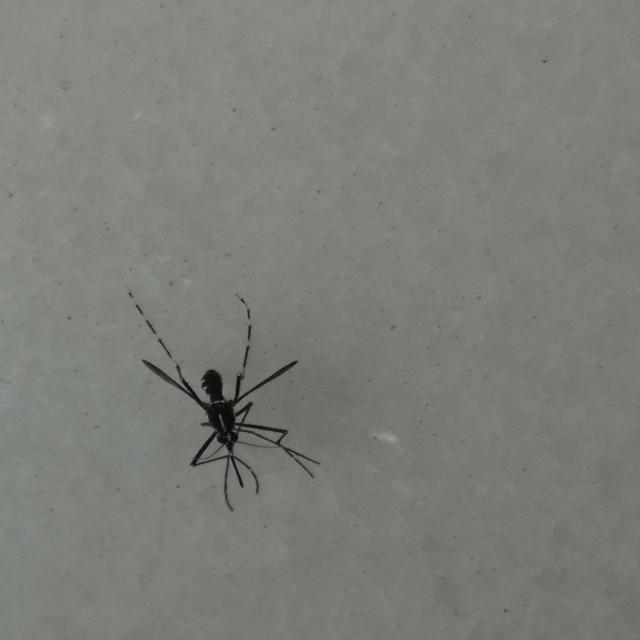albopictus: (115, 276, 327, 507)
